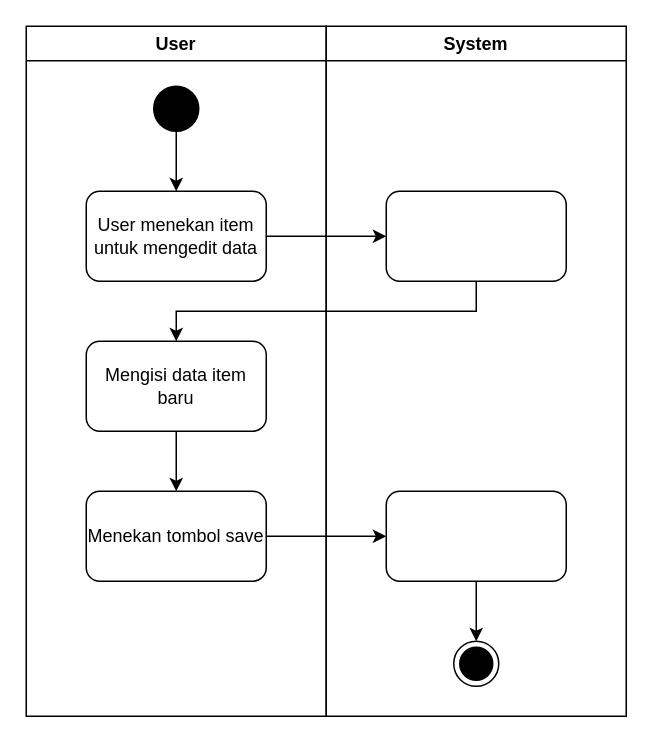
This 653x743 diagram has some shape labels left out. Each missing label, with the box of its shape:
Menampilkan halaman Edit Shoes: (385, 190, 566, 281)
Menyimpan data sepatu baru: (385, 490, 566, 581)
